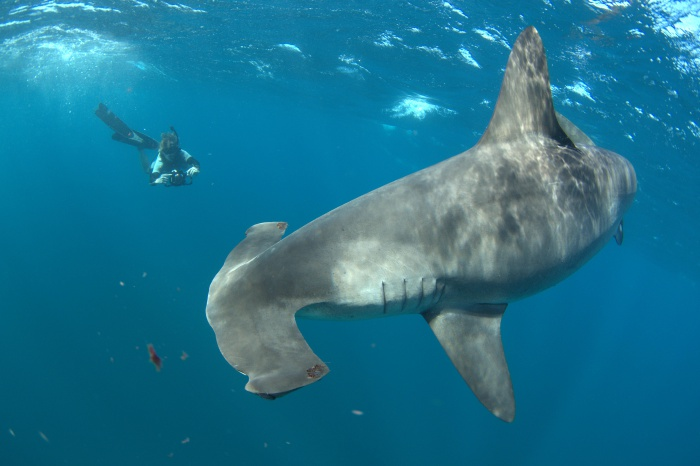Hammer: (197, 16, 665, 421), (385, 237, 534, 327)
